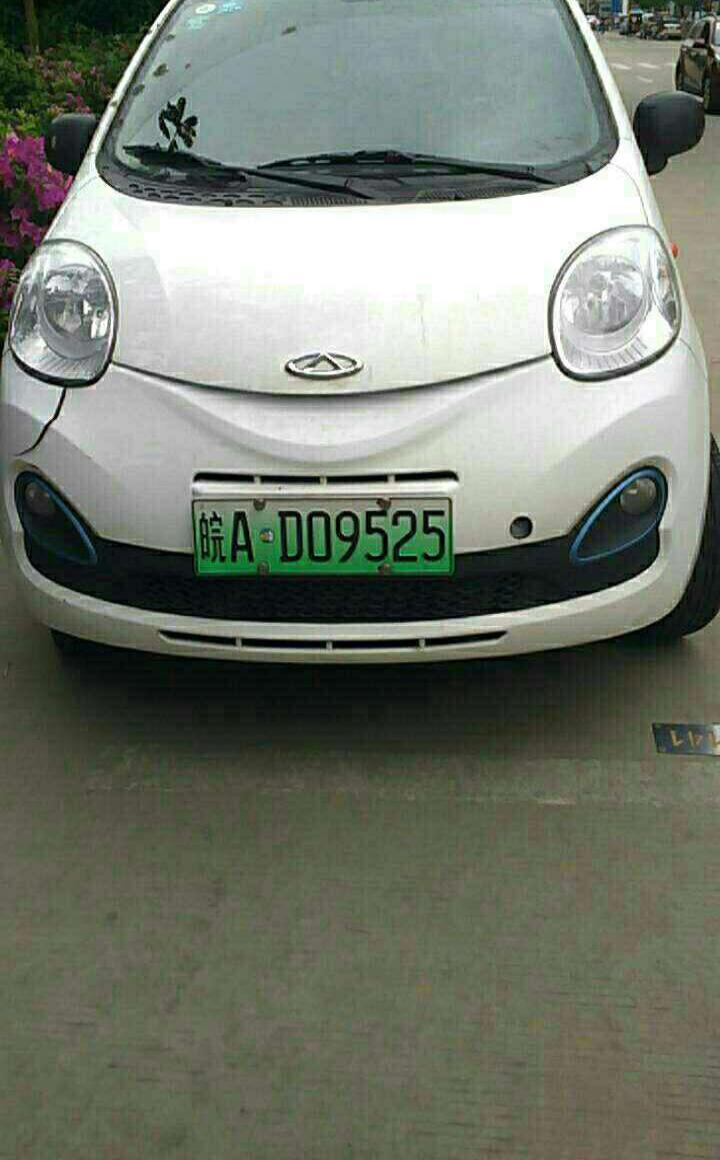car_id: (192, 499, 453, 575)
